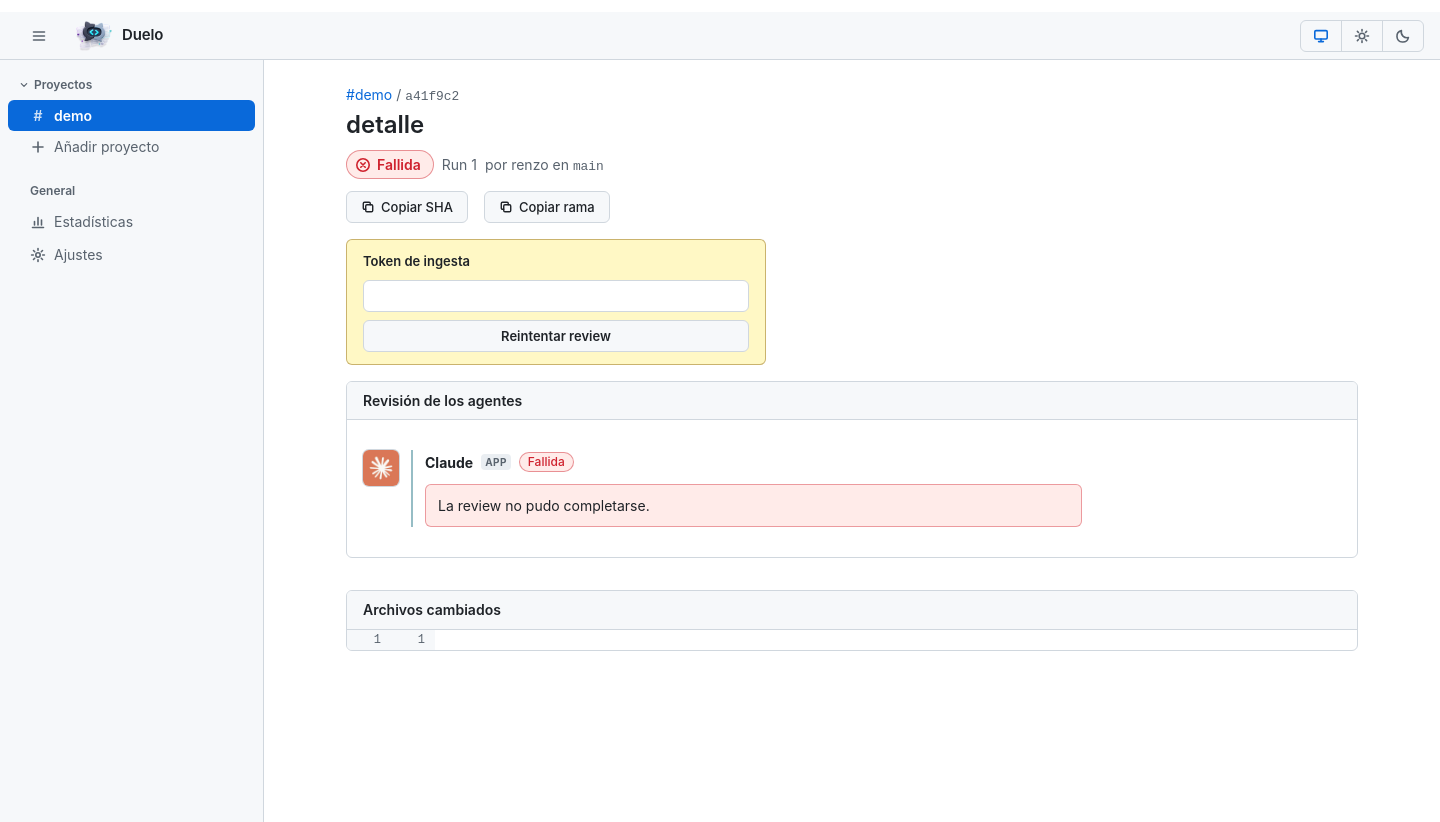
Test case: retry review › forgets the token and says it is not valid on 401
Expected: the heading "detalle" is shown, [346, 110, 424, 139]
Type "malo" into the password field labelled "Token de ingesta" at [556, 296], box [363, 280, 749, 312]
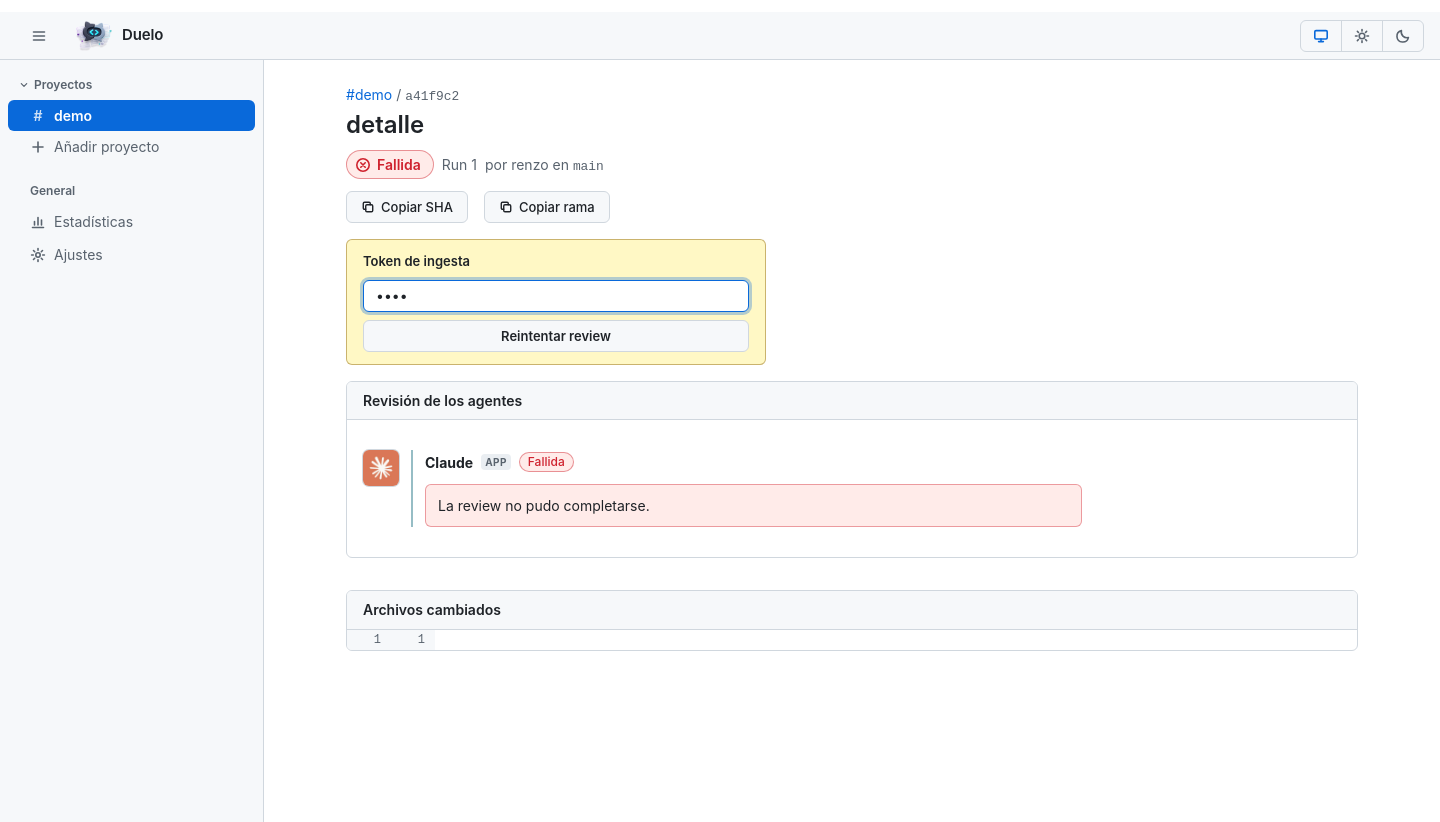
Click the button "Reintentar review" at [556, 336], box [363, 320, 749, 352]
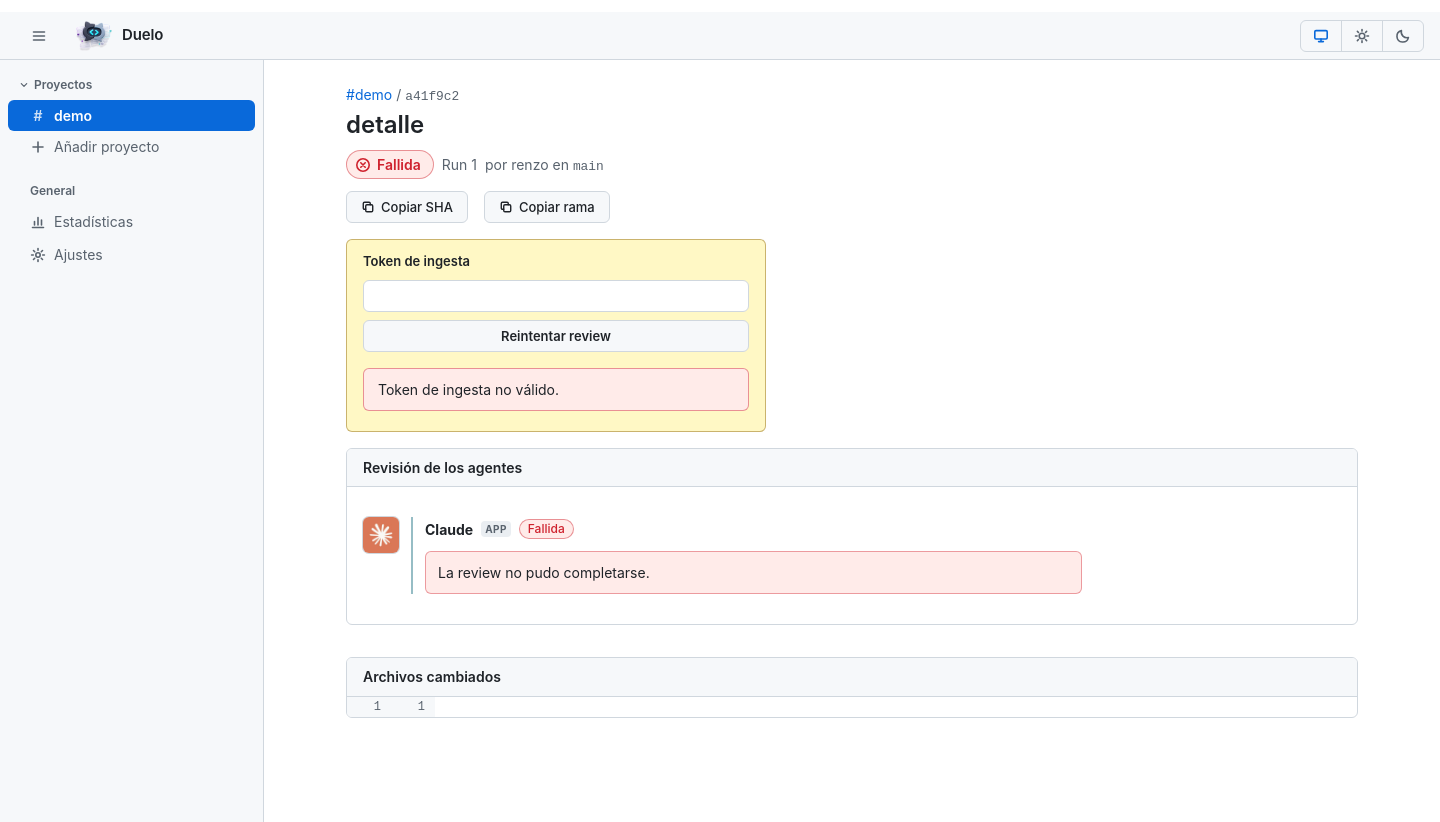
Result: the message reads "Token de ingesta no válido." at [378, 381, 559, 398]
Result: the password field labelled "Token de ingesta" is empty at [363, 280, 749, 312]
